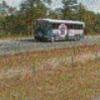buses: (32, 18, 86, 42)
